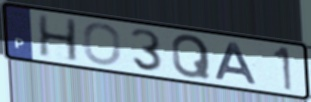1: (272, 46, 294, 93)
3: (129, 28, 164, 73)
A: (213, 42, 260, 87)
H: (36, 13, 81, 64)
O: (82, 22, 123, 67)
Q: (170, 33, 213, 80)
